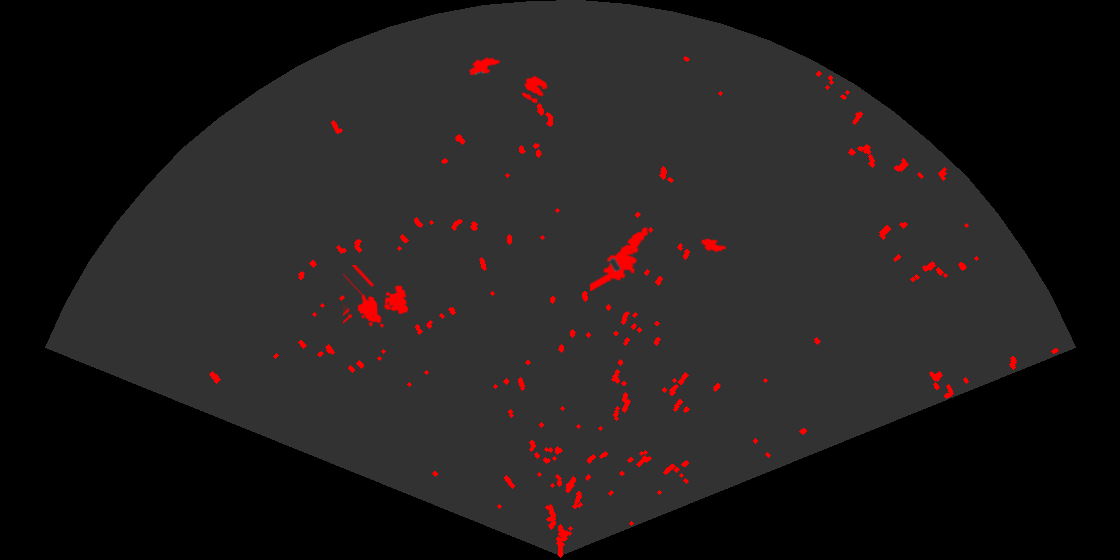AUV: (467, 56, 502, 77), (699, 237, 728, 254)
ball: (520, 74, 549, 105)
cage: (343, 265, 410, 329)
frogman: (590, 225, 650, 291)
